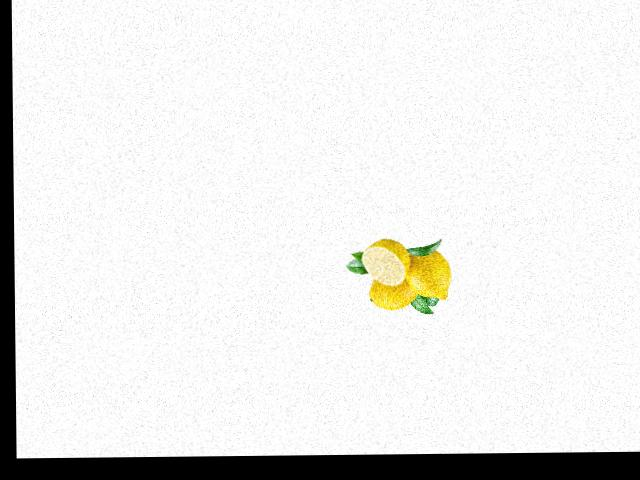lemon: (403, 243, 454, 306)
